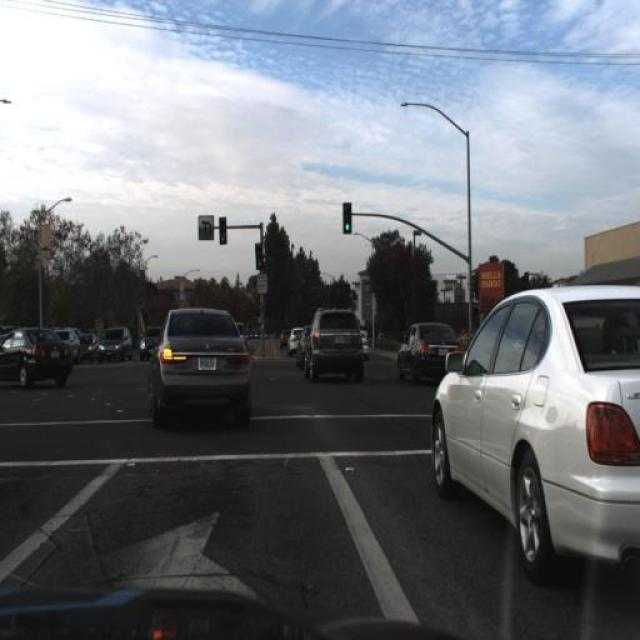car: (431, 278, 638, 570), (150, 304, 250, 428), (395, 312, 464, 393), (0, 327, 75, 388), (308, 298, 362, 382), (98, 324, 134, 360), (137, 324, 161, 364), (56, 328, 85, 358), (298, 319, 312, 367), (288, 326, 300, 360), (278, 319, 288, 355)
trafficLight-GreenLeft: (342, 204, 353, 236), (252, 244, 262, 274)
trafficLight-Red: (218, 217, 230, 245)
